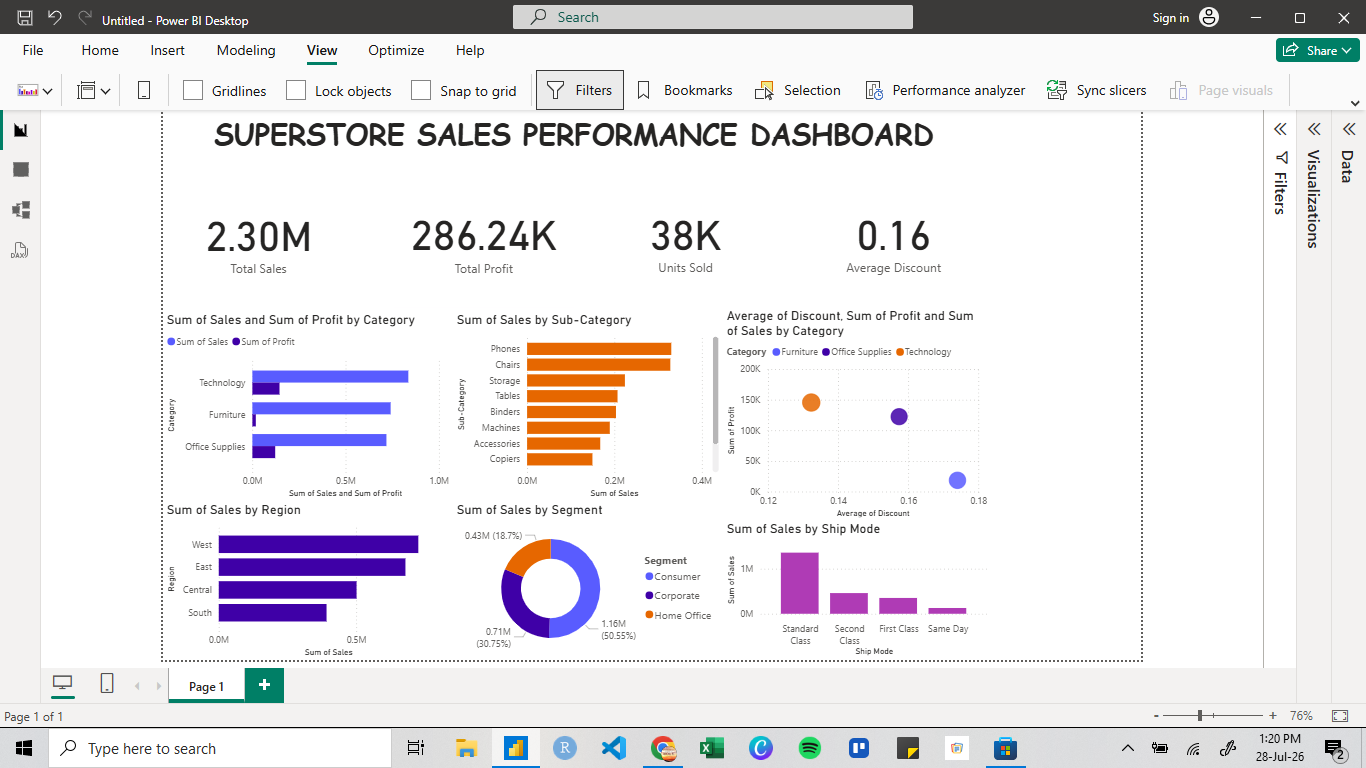

The page's visual inventory and layout, read from the dashboard file:
{"tool":"powerbi","page":{"name":"Page 1","canvas":[1280,720],"ordinal":0},"visuals":[{"type":"card","fields":{"Values":["Sum(sales_cleaned.Sales)"]},"box":[0,77.3,250.3,183.1],"z":0},{"type":"card","fields":{"Values":["Sum(sales_cleaned.Profit)"]},"box":[302.4,79,235.2,179.7],"z":1000},{"type":"card","fields":{"Values":["Sum(sales_cleaned.Quantity)"]},"box":[571.1,77.3,226.8,181.4],"z":2000},{"type":"clusteredBarChart","fields":{"Category":["sales_cleaned.Category"],"Y":["Sum(sales_cleaned.Sales)","Sum(sales_cleaned.Profit)"]},"box":[0,265,380.2,247.7],"z":3000},{"type":"clusteredBarChart","fields":{"Category":["sales_cleaned.Sub-Category"],"Y":["Sum(sales_cleaned.Sales)"]},"box":[380.2,265,352.8,247.7],"z":5000},{"type":"clusteredBarChart","fields":{"Category":["sales_cleaned.Region"],"Y":["Sum(sales_cleaned.Sales)"]},"box":[0,512.6,380.2,207.4],"z":6000},{"type":"donutChart","fields":{"Category":["sales_cleaned.Segment"],"Y":["Sum(sales_cleaned.Sales)"]},"box":[380.2,512.6,352.8,207.4],"z":7000},{"type":"textbox","box":[0,0,1075.1,79],"z":9000},{"type":"card","fields":{"Values":["Avg(sales_cleaned.Discount)"]},"box":[848.3,77.3,216.7,181.4],"z":9001},{"type":"scatterChart","fields":{"X":["Avg(sales_cleaned.Discount)"],"Y":["Sum(sales_cleaned.Profit)"],"Size":["Sum(sales_cleaned.Sales)"],"Series":["sales_cleaned.Category"]},"box":[733,259.2,351.4,279.4],"z":9002},{"type":"clusteredColumnChart","fields":{"Category":["sales_cleaned.Ship Mode"],"Y":["Sum(sales_cleaned.Sales)"]},"box":[733,538.6,351.4,181.4],"z":9003}]}

Visuals, with their boxes on the page's 1280x720 design canvas (x1, y1, x2, y2). These are canvas units, not pixel positions in the 1366x768 screenshot, which may show the page scaled, cropped or inside an application window:
card - Sum(sales_cleaned.Sales): [x1=0, y1=77, x2=250, y2=260]
card - Sum(sales_cleaned.Profit): [x1=302, y1=79, x2=538, y2=259]
card - Sum(sales_cleaned.Quantity): [x1=571, y1=77, x2=798, y2=259]
clusteredBarChart - sales_cleaned.Category x Sum(sales_cleaned.Sales): [x1=0, y1=265, x2=380, y2=513]
clusteredBarChart - sales_cleaned.Sub-Category x Sum(sales_cleaned.Sales): [x1=380, y1=265, x2=733, y2=513]
clusteredBarChart - sales_cleaned.Region x Sum(sales_cleaned.Sales): [x1=0, y1=513, x2=380, y2=720]
donutChart - sales_cleaned.Segment x Sum(sales_cleaned.Sales): [x1=380, y1=513, x2=733, y2=720]
textbox: [x1=0, y1=0, x2=1075, y2=79]
card - Avg(sales_cleaned.Discount): [x1=848, y1=77, x2=1065, y2=259]
scatterChart - Avg(sales_cleaned.Discount) x Sum(sales_cleaned.Profit): [x1=733, y1=259, x2=1084, y2=539]
clusteredColumnChart - sales_cleaned.Ship Mode x Sum(sales_cleaned.Sales): [x1=733, y1=539, x2=1084, y2=720]
